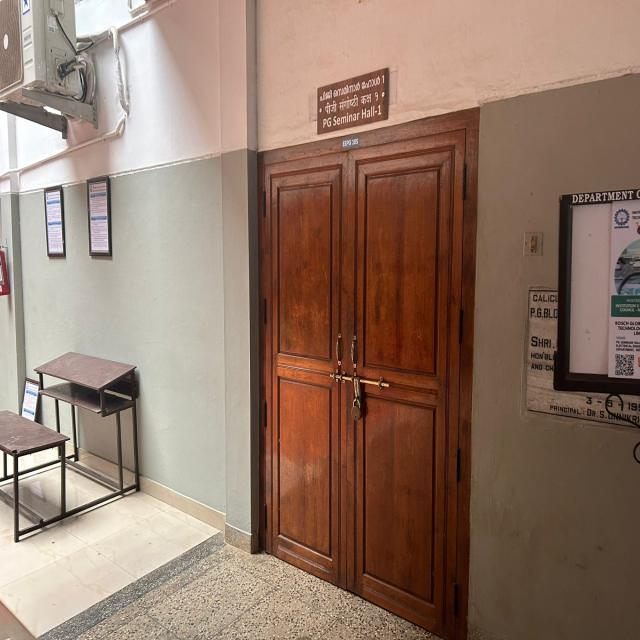Door ahead at: (272, 155, 456, 612)
